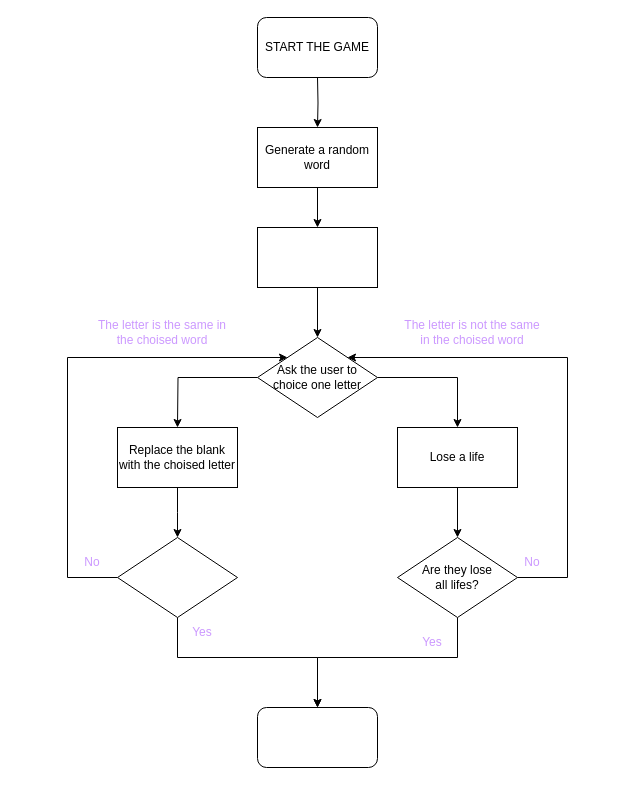
Image size: 624x785. Some labels were removed from this diagram. The box of each missing label's shape, as (x1, y1, x2, y2) in pixels:
Are all the blanks filled?: (116, 536, 238, 618)
Count the length of word and replace with blanks: (256, 226, 378, 288)
GAME OVER: (256, 706, 378, 768)
